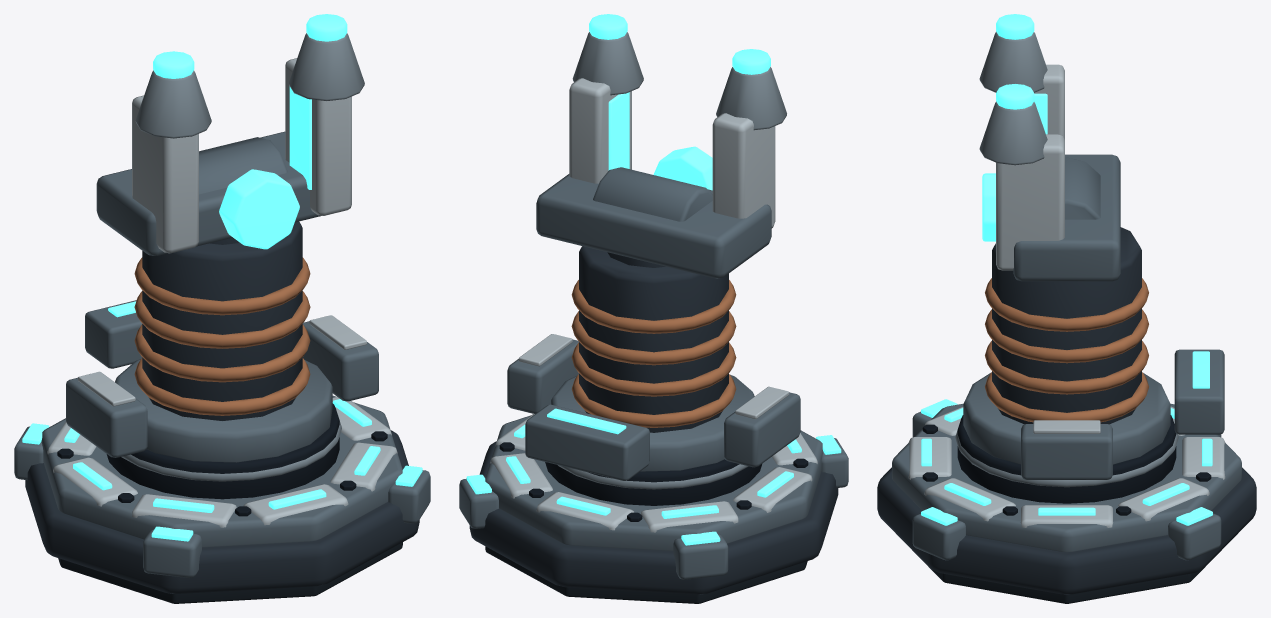
The model's file is arc_relay.fbx.
3 renders of one model, left to right at view 1: azimuth 30°, elevation 25°; view 2: azimuth 150°, elevation 25°; view 3: azimuth 270°, elevation 25°, orthographic. The views are drawn at different scales.
Parts seen in each view (by area): view 1: Base_Geometry, Yaw_Geometry, Recoil_Geometry, Tier3_Cooling_Geometry, Tier2_Capacitor_Geometry, Apex_sector_0_Geometry, Apex_sector_3_Geometry, Apex_sector_1_Geometry, Tier2_Light_01_Geometry; view 2: Base_Geometry, Recoil_Geometry, Yaw_Geometry, Tier3_Cooling_Geometry, Tier2_Capacitor_Geometry, Apex_sector_1_Geometry, Apex_sector_2_Geometry, Apex_sector_0_Geometry; view 3: Base_Geometry, Yaw_Geometry, Recoil_Geometry, Tier3_Cooling_Geometry, Tier2_Capacitor_Geometry, Apex_sector_2_Geometry, Apex_sector_3_Geometry, Apex_sector_0_Geometry, Tier3_Light_06_Geometry.
Part boxes in pixels (x1,y1,x2,y2): Base_Geometry: (25,395,419,603); Yaw_Geometry: (115,137,332,462); Recoil_Geometry: (96,14,364,255); Tier3_Cooling_Geometry: (66,315,378,457); Tier2_Capacitor_Geometry: (85,300,142,368); Apex_sector_0_Geometry: (143,526,201,577); Apex_sector_3_Geometry: (388,465,430,523); Apex_sector_1_Geometry: (14,423,49,480); Tier2_Light_01_Geometry: (153,498,214,512); Base_Geometry: (469,414,838,603); Recoil_Geometry: (536,14,786,278); Yaw_Geometry: (551,167,754,471); Tier3_Cooling_Geometry: (507,334,800,467); Tier2_Capacitor_Geometry: (525,404,649,480); Apex_sector_1_Geometry: (673,531,728,579); Apex_sector_2_Geometry: (459,474,498,528); Apex_sector_0_Geometry: (816,435,848,487); Base_Geometry: (877,403,1256,603); Yaw_Geometry: (963,157,1170,464); Recoil_Geometry: (979,14,1120,281); Tier3_Cooling_Geometry: (1021,420,1112,479); Tier2_Capacitor_Geometry: (1174,349,1224,434); Apex_sector_2_Geometry: (1168,507,1221,560); Apex_sector_3_Geometry: (912,507,965,560); Apex_sector_0_Geometry: (912,399,957,437); Tier3_Light_06_Geometry: (1038,507,1095,515).
Size of the model in its own units: 1.98 by 2.73 by 1.98.
